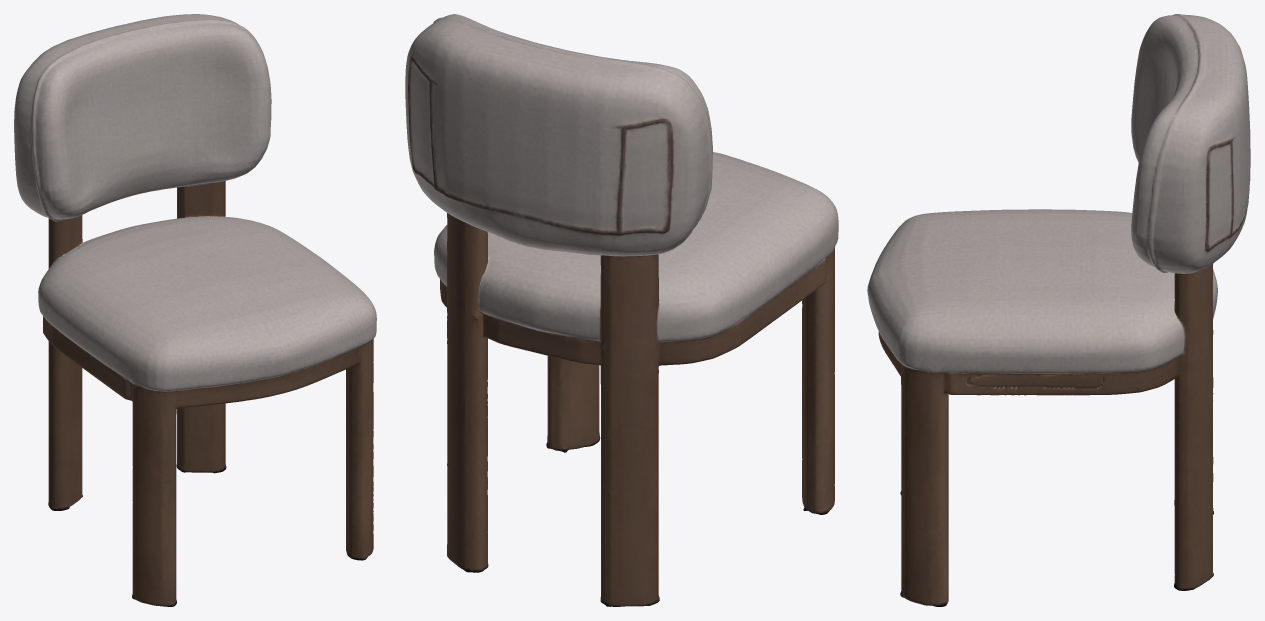
The model's file is daybed.glb.
3 renders of one model, left to right at view 1: azimuth 30°, elevation 25°; view 2: azimuth 150°, elevation 25°; view 3: azimuth 270°, elevation 25°, orthographic. The views are drawn at different scales.
Parts seen in each view (by area): view 1: world; view 2: world; view 3: world.
Boxes of the visible parts, left/top/right/bottom form: world: left=14, top=14, right=376, bottom=606; world: left=405, top=14, right=838, bottom=606; world: left=867, top=14, right=1250, bottom=606.
Bounding box in the file's own units: 0.5779 × 1 × 0.7123.
Materials: 1 (1 with a texture image).
